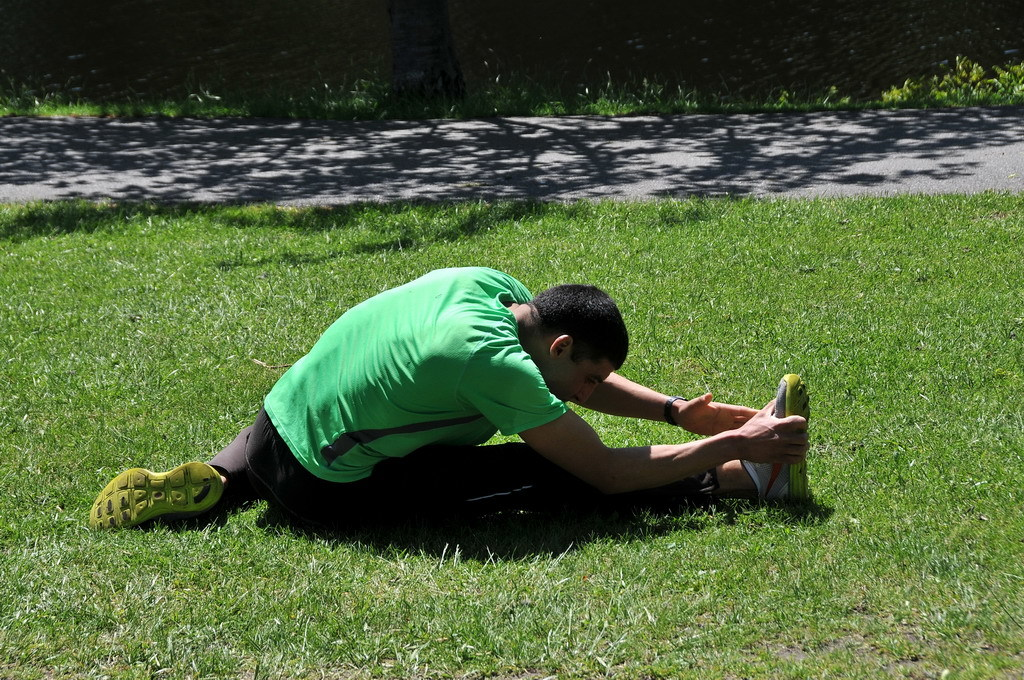Human_hand: (689, 402, 810, 486), (678, 390, 759, 438)
